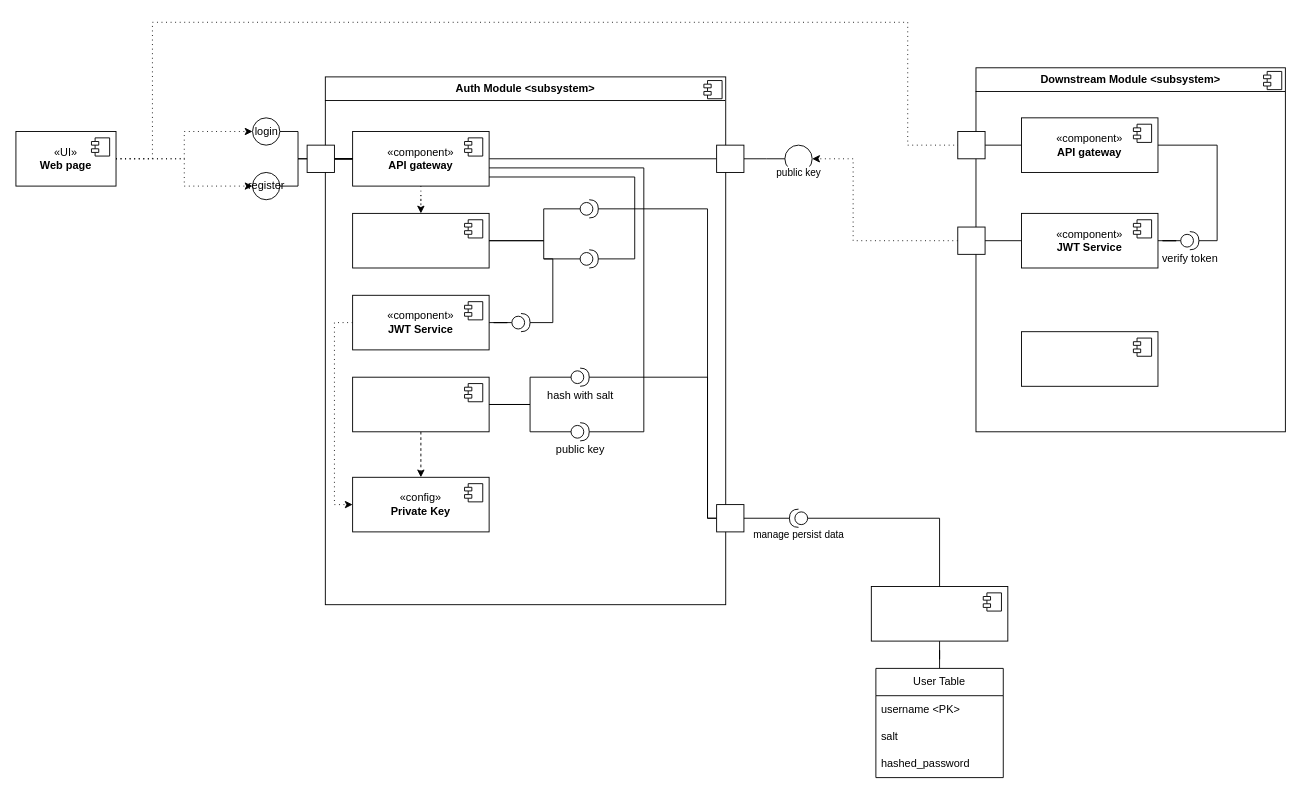
The diagram is 1301 pixels wide and 794 high, and some of its shapes have lost their labels. Here are the shapes that lost their labels. From the top down, the centre of each, then its label:
At point (588, 208): "manage users".
At point (420, 240): "«component» Auth Service".
At point (588, 258): "manage token".
At point (520, 322): "sign token".
At point (1089, 358): "«component» ... Service".
At point (420, 404): "«component» Cryptography Service".
At point (939, 613): "«database» User DB".
